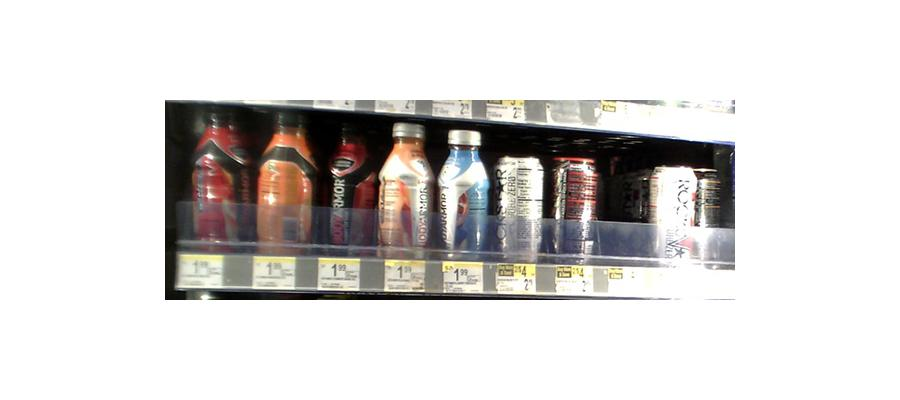bottle: (188, 101, 255, 250), (256, 106, 315, 253), (377, 119, 433, 258), (436, 124, 489, 261), (322, 124, 372, 255), (492, 153, 545, 266), (551, 155, 600, 267), (650, 163, 695, 264)
